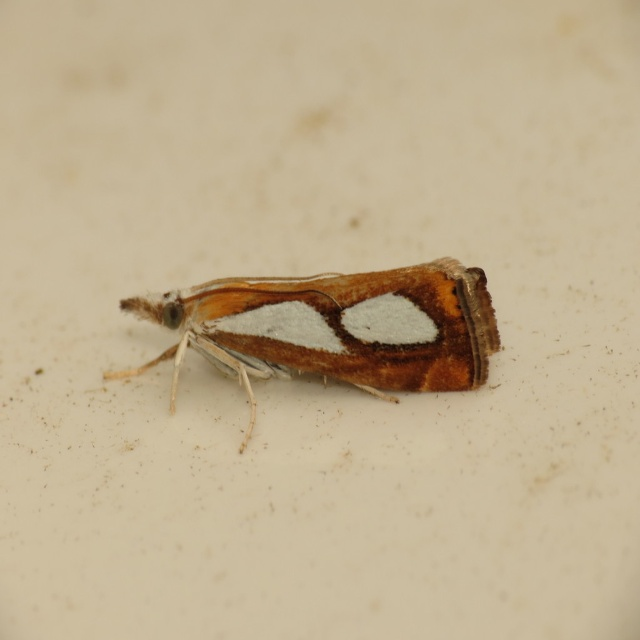Moths and butterflies: (100, 252, 507, 458)
